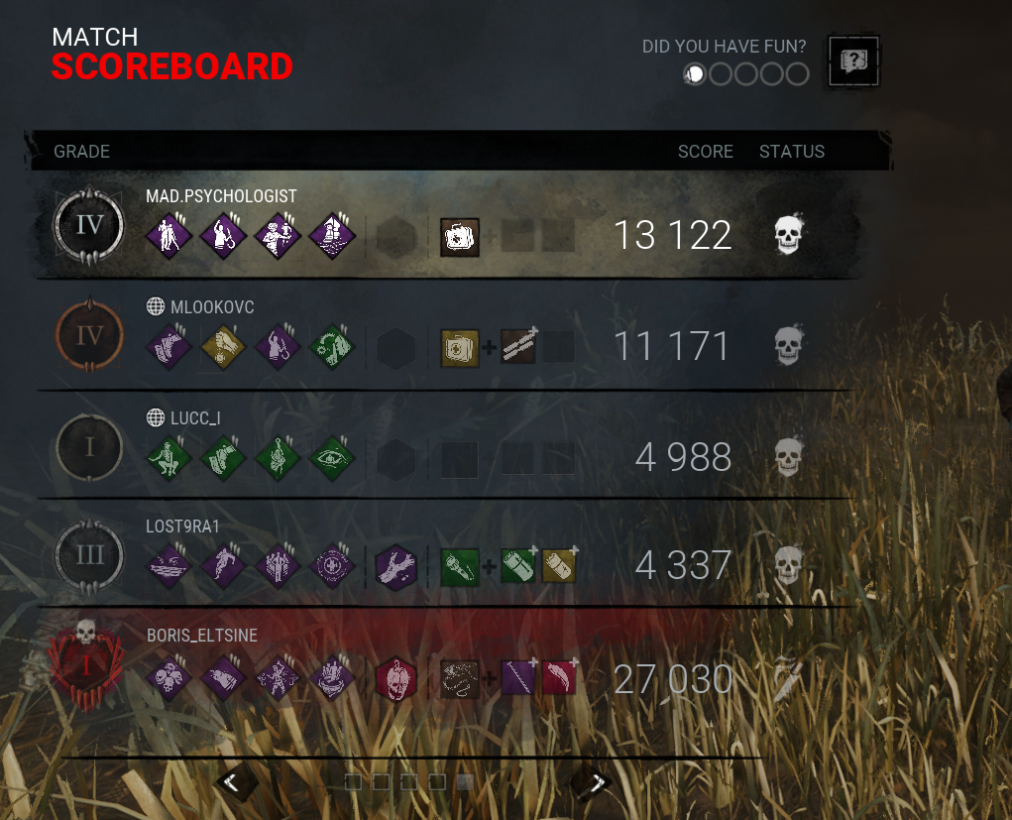bbq_and_chilli: (308, 655, 357, 702)
borrowed_time: (197, 326, 246, 373)
circle_of_healing: (308, 543, 357, 590)
dark_sense: (308, 435, 357, 482)
dead_hard: (198, 542, 247, 589)
guardian: (253, 213, 302, 260)
no_one_left_behind: (144, 213, 193, 260)
prove_thyself: (254, 543, 303, 590)
quick_and_quiet: (143, 436, 192, 483)
scourage_hook:gift_of_pain: (253, 655, 302, 702)
self_aware: (307, 212, 356, 259)
slippery_meat: (254, 436, 303, 483)
spies_from_the_shadow: (199, 655, 248, 702)
sprint_burst: (144, 327, 193, 374), (199, 436, 248, 483)
technician: (308, 325, 357, 372)
thanatophobia: (143, 655, 192, 702)
well_make_it: (199, 213, 248, 260), (253, 324, 302, 371)
windows_of_opportunity: (143, 543, 192, 590)
